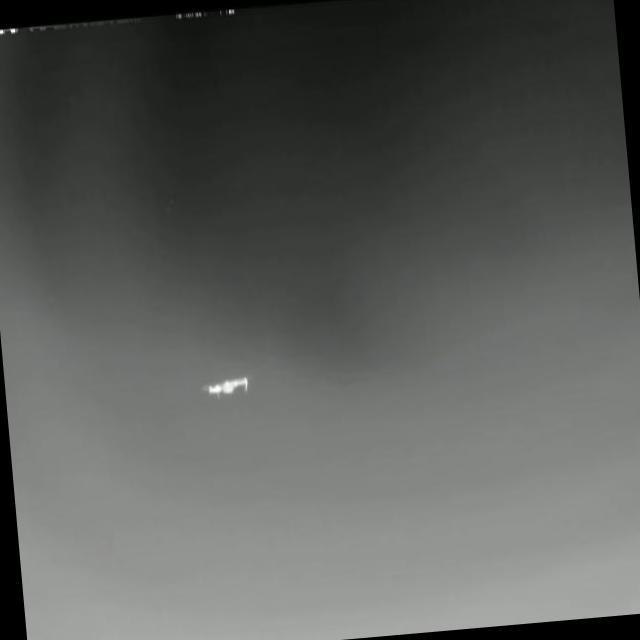DRONE: (194, 364, 258, 408)
